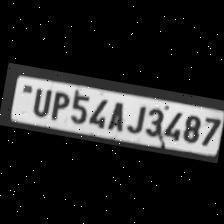3: (140, 102, 165, 136)
4: (84, 91, 110, 128), (160, 105, 184, 140)
5: (64, 88, 90, 124)
7: (198, 112, 223, 148)
8: (178, 110, 202, 144)
A: (102, 96, 127, 132)
J: (122, 98, 146, 134)
P: (45, 86, 70, 120)
U: (26, 83, 52, 117)
